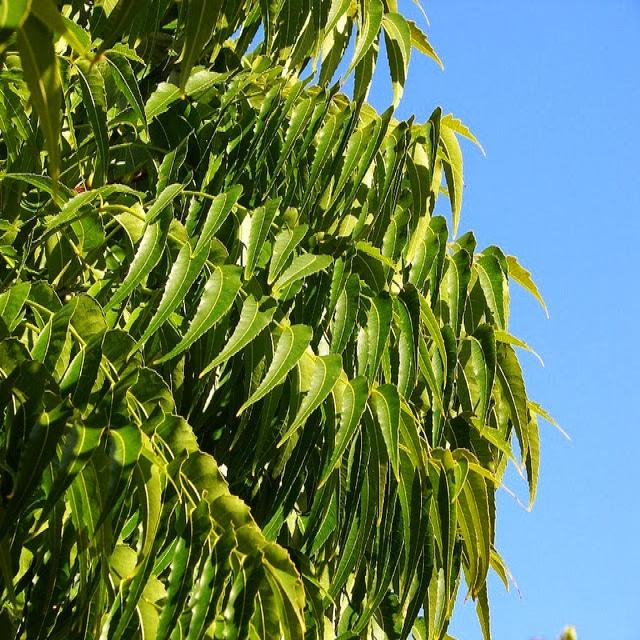Medicinal-Neem: (0, 0, 568, 640)
